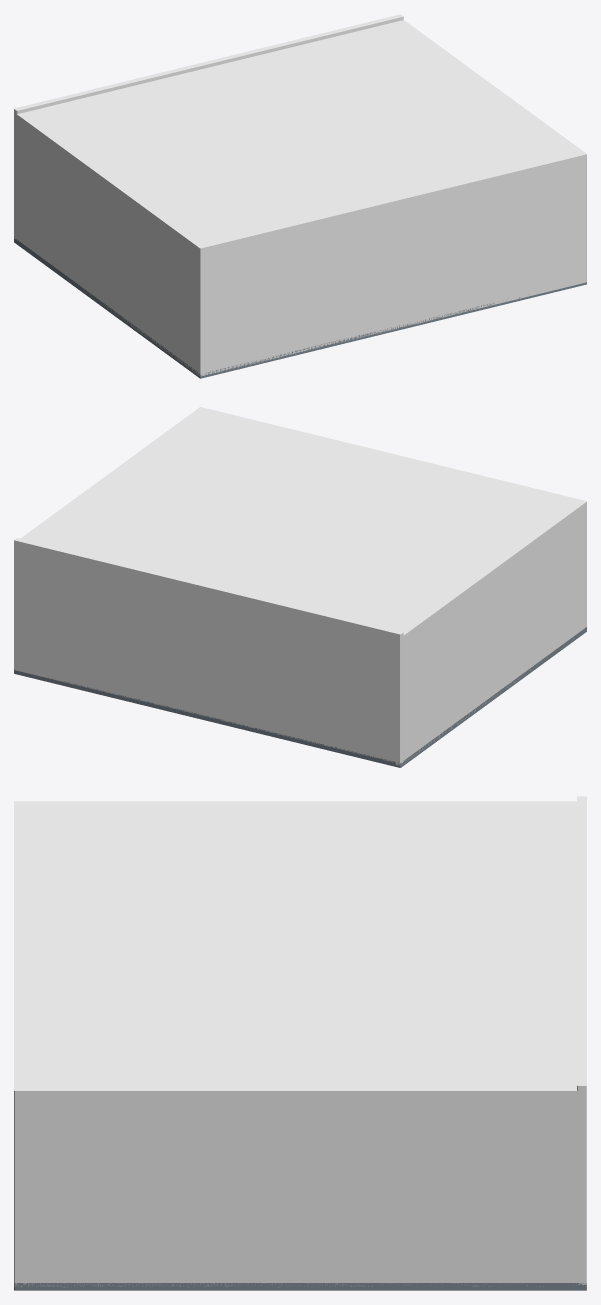
The model's file is Anam.glb.
3 renders of one model, top to bottom at view 1: azimuth 30°, elevation 25°; view 2: azimuth 150°, elevation 25°; view 3: azimuth 270°, elevation 25°, orthographic. The views are drawn at different scales.
Parts seen in each view (by area): view 1: VR full ceiling, VR front wall, VR left wall full, Back wall, Room floor; view 2: VR full ceiling, Back wall, VR left wall full, Room floor; view 3: VR full ceiling, VR right wall, Back wall, Room floor, VR front wall.
Boxes of the visible parts, x1,y1,x2,y2 form: VR full ceiling: [14, 20, 586, 253]; VR front wall: [197, 156, 586, 376]; VR left wall full: [16, 120, 205, 373]; Back wall: [14, 14, 403, 239]; Room floor: [14, 238, 586, 378]; VR full ceiling: [14, 407, 586, 643]; Back wall: [14, 538, 403, 763]; VR left wall full: [395, 510, 586, 765]; Room floor: [14, 627, 586, 767]; VR full ceiling: [14, 801, 586, 1100]; VR right wall: [14, 1093, 586, 1287]; Back wall: [577, 796, 586, 1284]; Room floor: [14, 1283, 586, 1290]; VR front wall: [14, 1093, 22, 1287].
Bounding box in the file's own units: 12.18 × 4.02 × 10.18.
